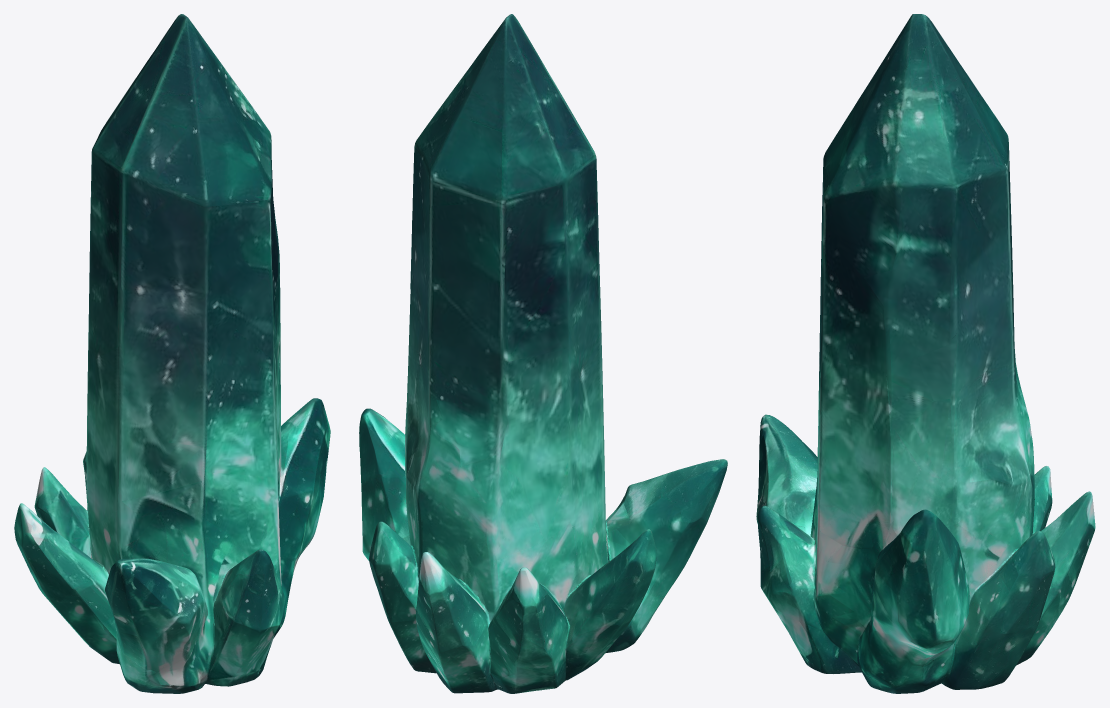
Rendered from turquoise-1k.glb.
The picture shows the model from 3 angles, left to right: view 1: azimuth 30°, elevation 25°; view 2: azimuth 150°, elevation 25°; view 3: azimuth 270°, elevation 25°; orthographic projection. The views are drawn at different scales.
Size of the model in its own units: 0.9412 by 1.9 by 0.9069.
Materials: 1 (1 with a texture image).
